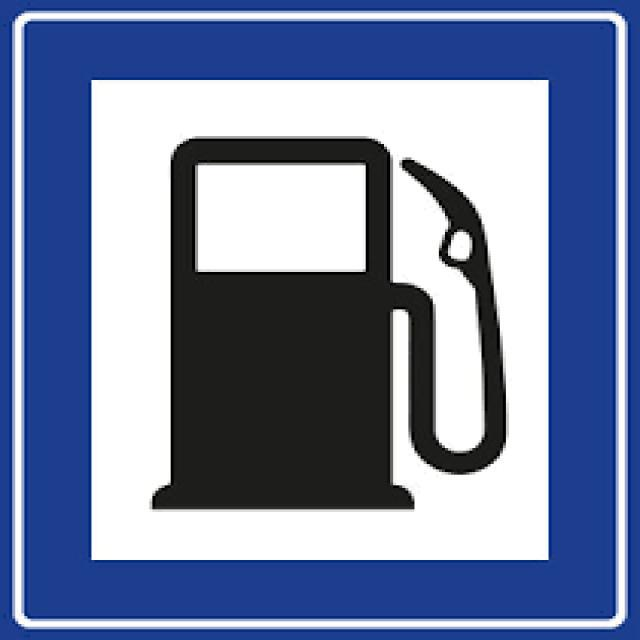petrol pump ahead: (52, 46, 593, 585)
